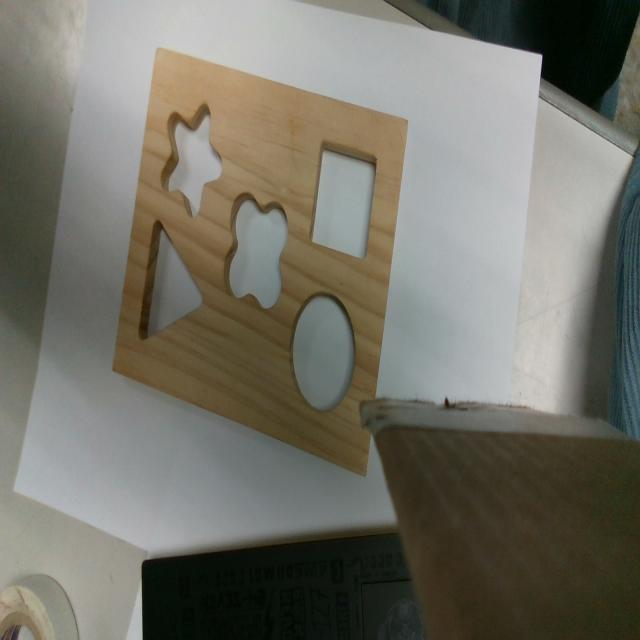circle: (291, 294, 356, 410)
flower: (224, 194, 287, 306)
square: (309, 139, 378, 264)
star: (160, 101, 223, 219)
triangle: (138, 215, 203, 343)
